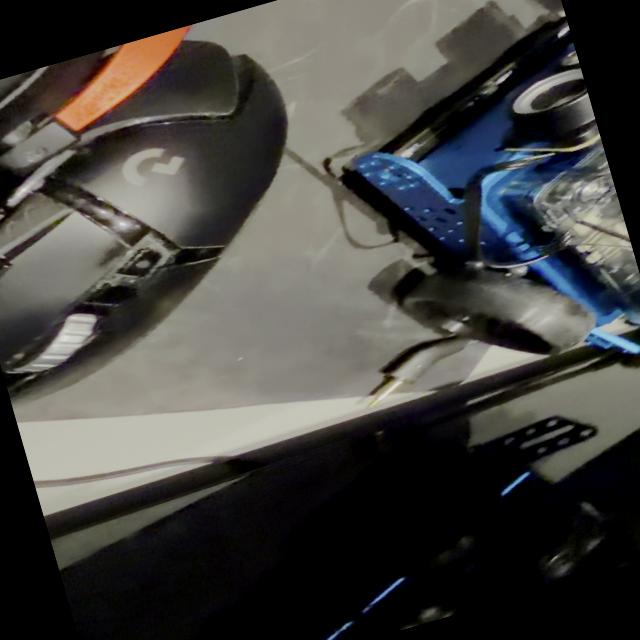mbot-detection: (282, 8, 640, 433)
